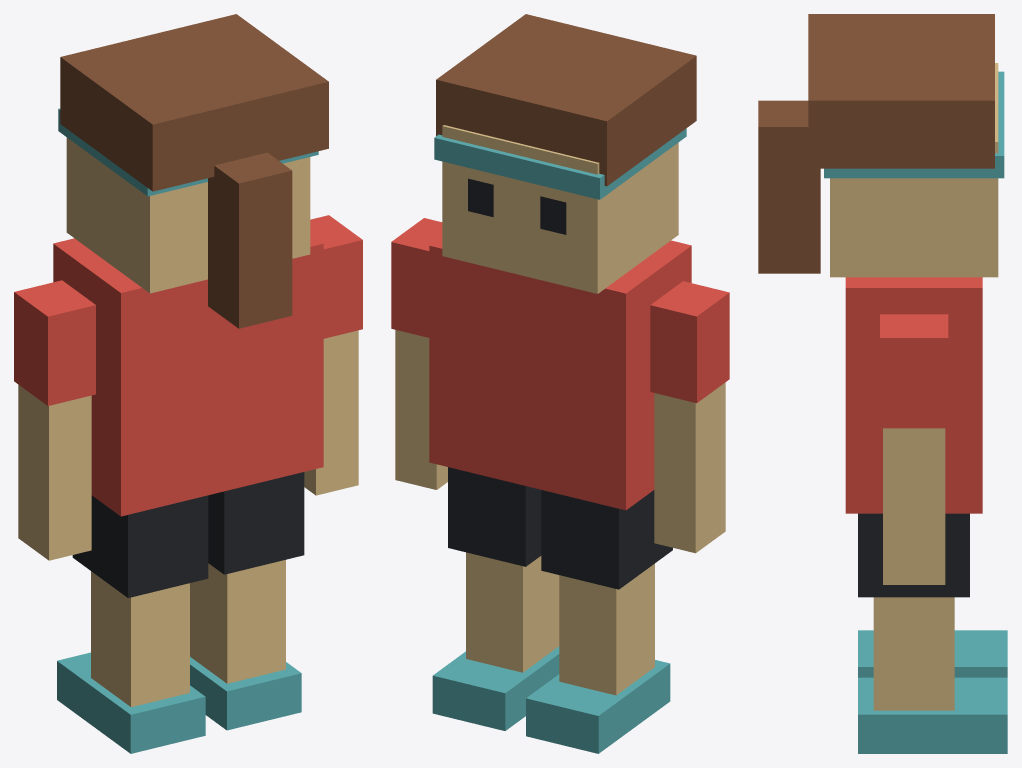
Rendered from H_JoggerW.fbx.
The picture shows the model from 3 angles, left to right: view 1: azimuth 30°, elevation 25°; view 2: azimuth 150°, elevation 25°; view 3: azimuth 270°, elevation 25°; orthographic projection. The views are drawn at different scales.
Parts seen in each view (by area): view 1: H_JoggerW; view 2: H_JoggerW; view 3: H_JoggerW.
Boxes of the visible parts, box(x1,y1,x2,y2) form: H_JoggerW: box(14, 14, 362, 753); H_JoggerW: box(391, 14, 729, 753); H_JoggerW: box(758, 14, 1007, 753).
Size of the model in its own units: 0.59 by 1.16 by 0.4.
